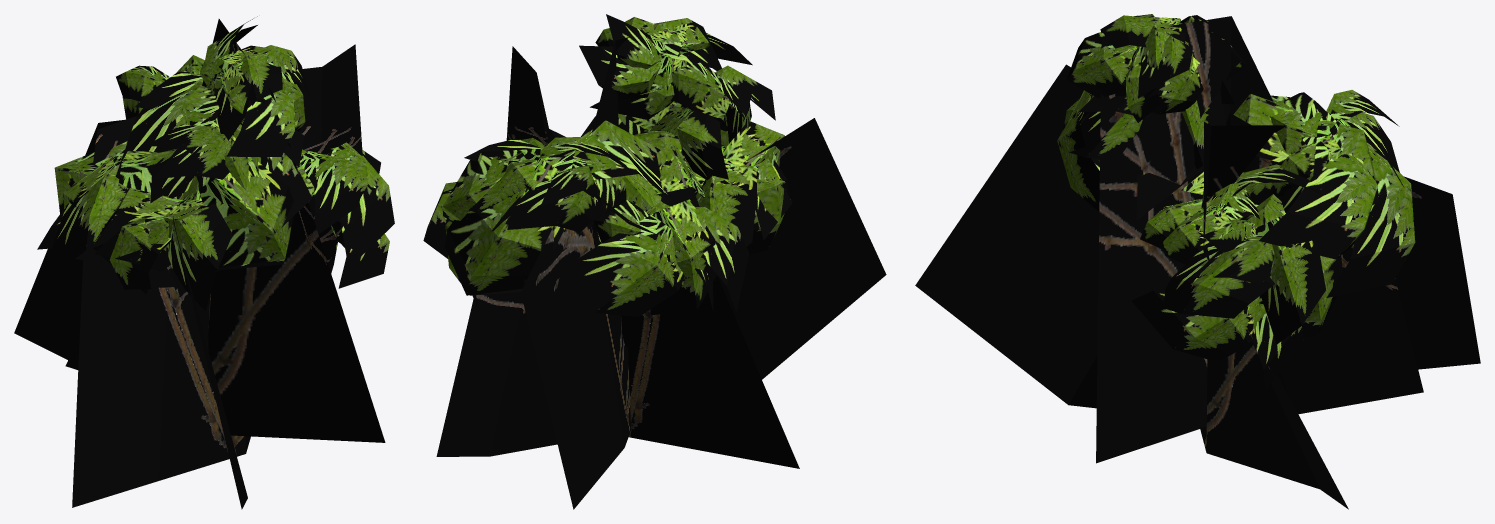
The model's file is bush3.obj.
3 views of the same model, side by side, from view 1: azimuth 30°, elevation 25°; view 2: azimuth 150°, elevation 25°; view 3: azimuth 270°, elevation 25° (orthographic). The views are drawn at different scales.
Parts seen in each view (by area): view 1: bush_03b_Plane.232; view 2: bush_03b_Plane.232; view 3: bush_03b_Plane.232.
Part boxes in pixels (box(x1,y1,x2,y2)): bush_03b_Plane.232: box(14, 16, 394, 509); bush_03b_Plane.232: box(423, 14, 886, 509); bush_03b_Plane.232: box(915, 14, 1480, 509).
Bounding box in the file's own units: 5.84 × 7.24 × 8.43.
